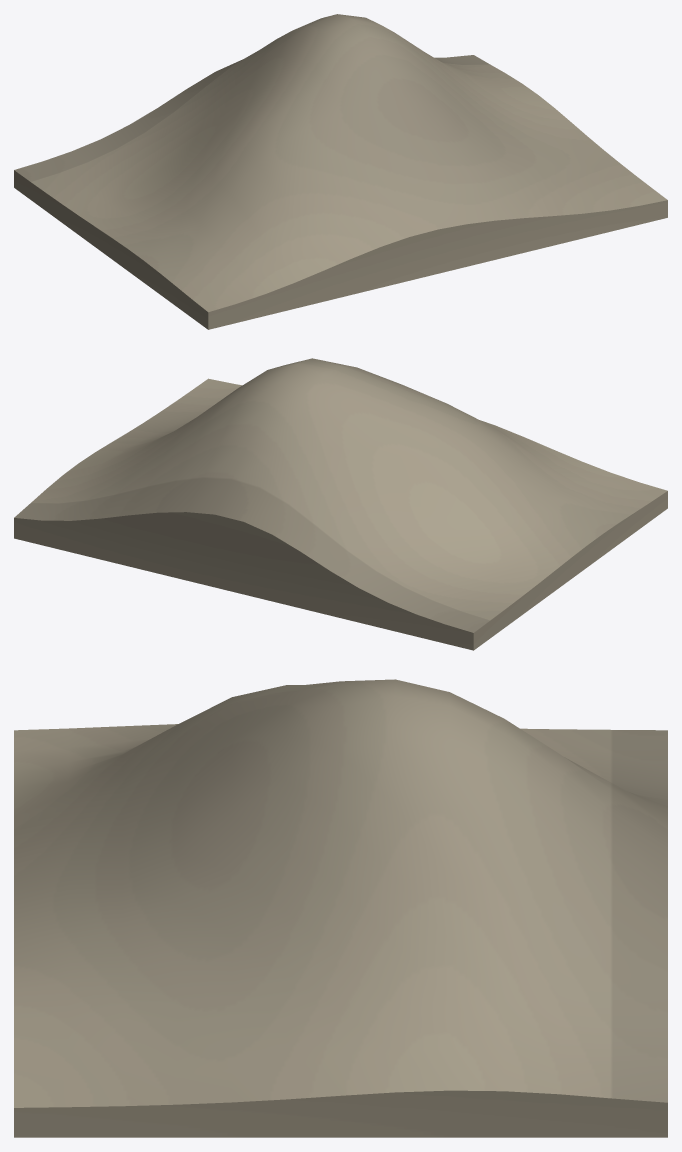
3 renders of one model, top to bottom at view 1: azimuth 30°, elevation 25°; view 2: azimuth 150°, elevation 25°; view 3: azimuth 270°, elevation 25°, orthographic. The views are drawn at different scales.
Visible parts, largest first — view 1: amman; view 2: amman; view 3: amman.
Boxes of the visible parts, <box> form: amman: <box>14,14,667,329</box>; amman: <box>14,358,667,650</box>; amman: <box>14,679,667,1137</box>.
Size of the model in its own units: 7.65 by 2.61 by 5.6.
1 material, 1 textured.
